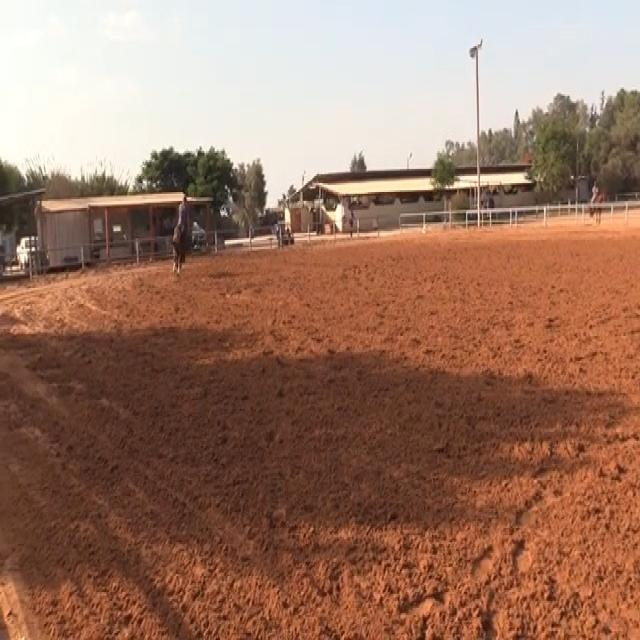horse: (170, 220, 190, 276)
